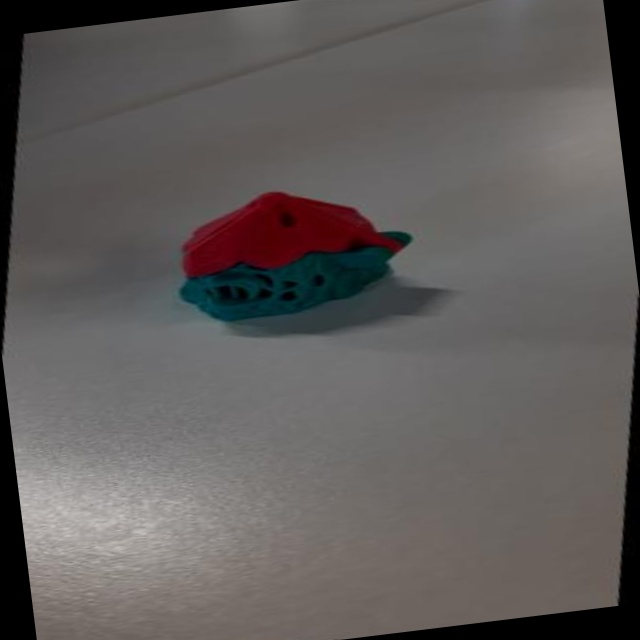House: (153, 168, 433, 341)
